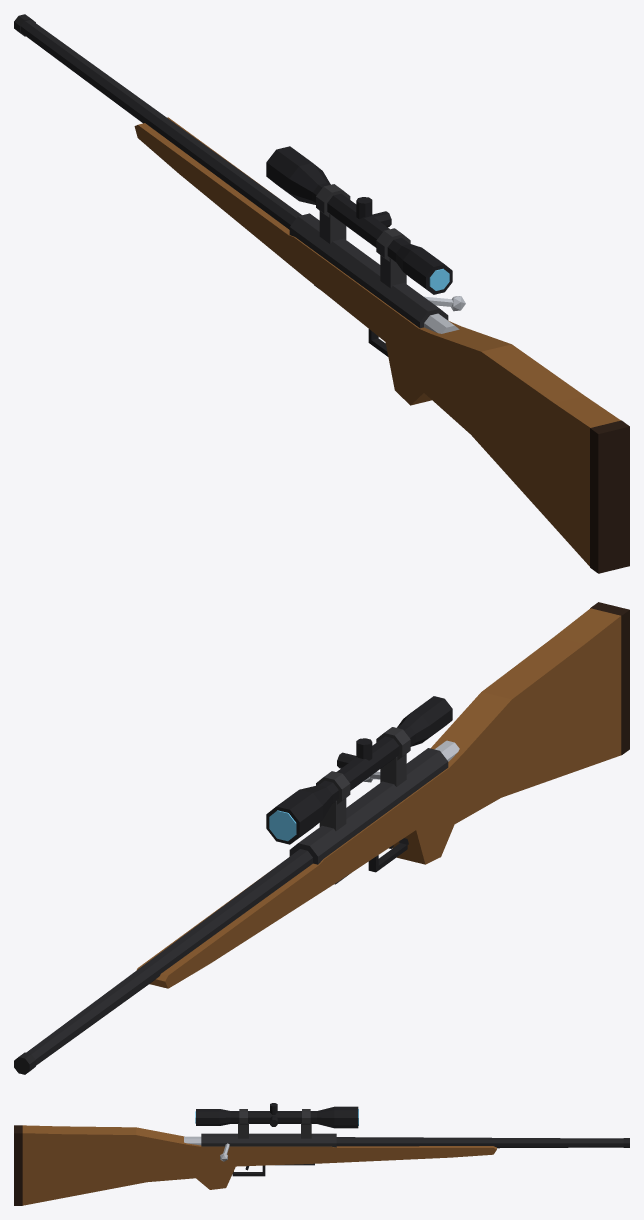
The model's file is Hawkeye.obj.
3 views of the same model, one above another, from view 1: azimuth 30°, elevation 25°; view 2: azimuth 150°, elevation 25°; view 3: azimuth 270°, elevation 25° (orthographic). The views are drawn at different scales.
Parts seen in each view (by area): view 1: Stock, Barrel, Scope, Pad, Body, Mount, Bolt; view 2: Stock, Barrel, Scope, Body, Mount, Pad, Lens; view 3: Stock, Barrel, Scope, Body, Pad, Mount, Bolt, Trigger.
Boxes of the visible parts, x1,y1,x2,y2 form: Stock: (134, 117, 620, 566); Barrel: (21, 19, 301, 229); Scope: (266, 146, 452, 294); Pad: (590, 420, 629, 573); Body: (289, 213, 448, 328); Mount: (316, 184, 410, 288); Bolt: (424, 296, 465, 333); Stock: (136, 608, 621, 988); Barrel: (26, 849, 312, 1065); Scope: (266, 696, 452, 844); Body: (289, 748, 448, 864); Mount: (316, 727, 410, 830); Pad: (590, 602, 629, 755); Lens: (269, 810, 296, 841); Stock: (22, 1125, 496, 1205); Barrel: (336, 1137, 623, 1148); Scope: (196, 1103, 358, 1128); Body: (201, 1133, 336, 1147); Pad: (14, 1125, 22, 1205); Mount: (238, 1109, 311, 1138); Bolt: (184, 1136, 229, 1161); Trigger: (232, 1165, 265, 1176).
Bounding box in the file's own units: 0.3781 × 0.99 × 5.69.
